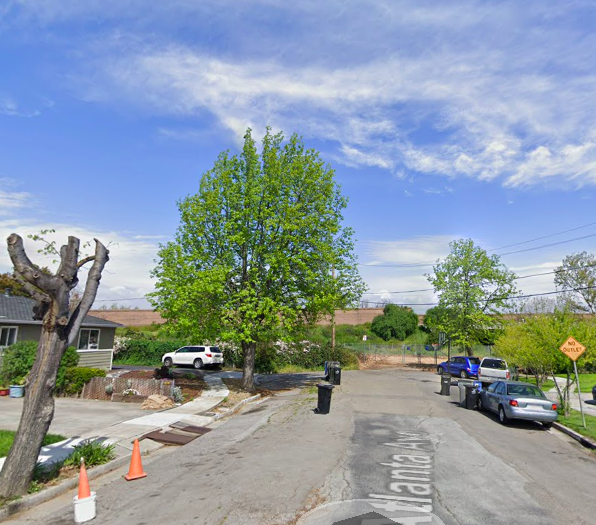tree: (142, 123, 371, 393), (421, 236, 524, 357)
